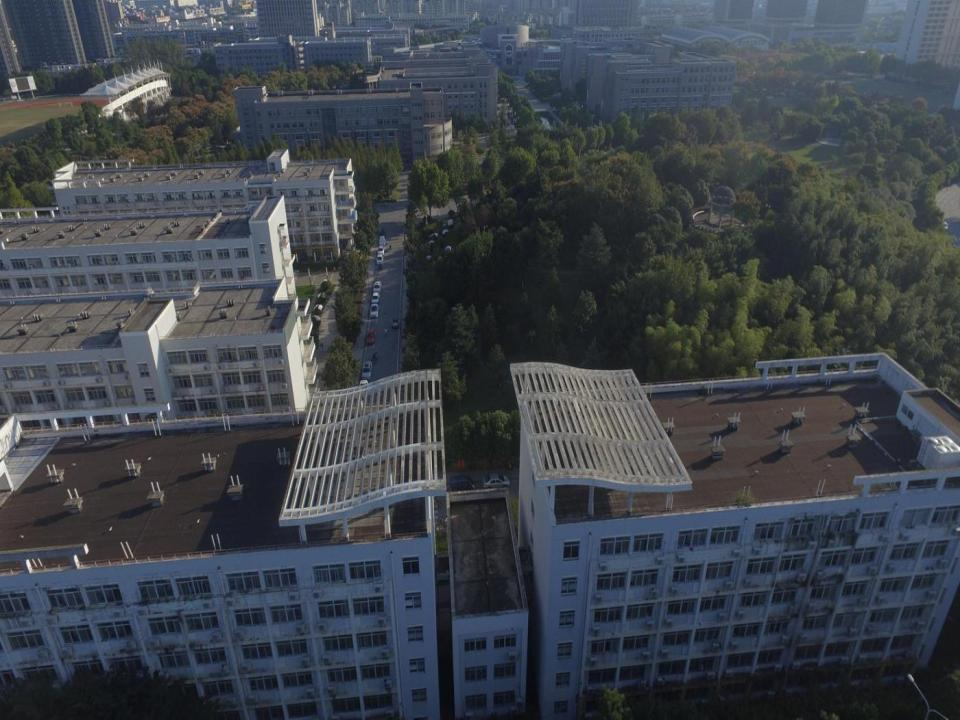car: (482, 473, 511, 489), (361, 360, 372, 381), (369, 302, 378, 318), (372, 280, 382, 294), (370, 292, 380, 305), (367, 328, 375, 344), (378, 244, 386, 256), (390, 317, 399, 327), (376, 253, 383, 265)
van: (448, 474, 474, 492)
